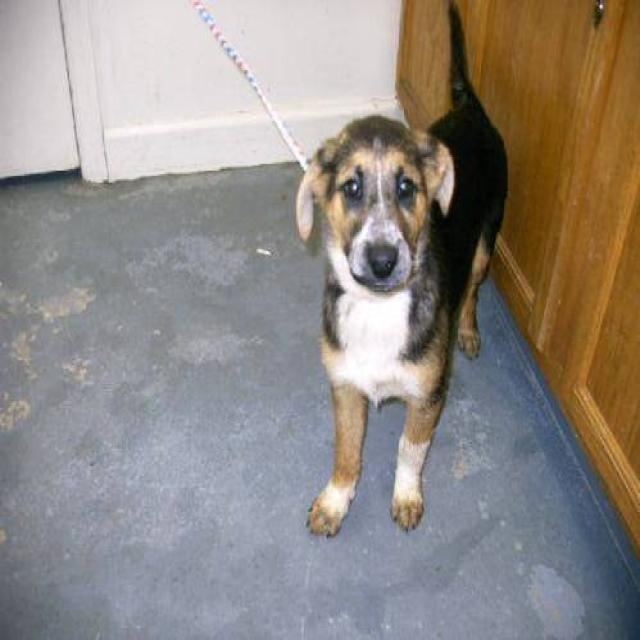Dog: (294, 108, 456, 295)
